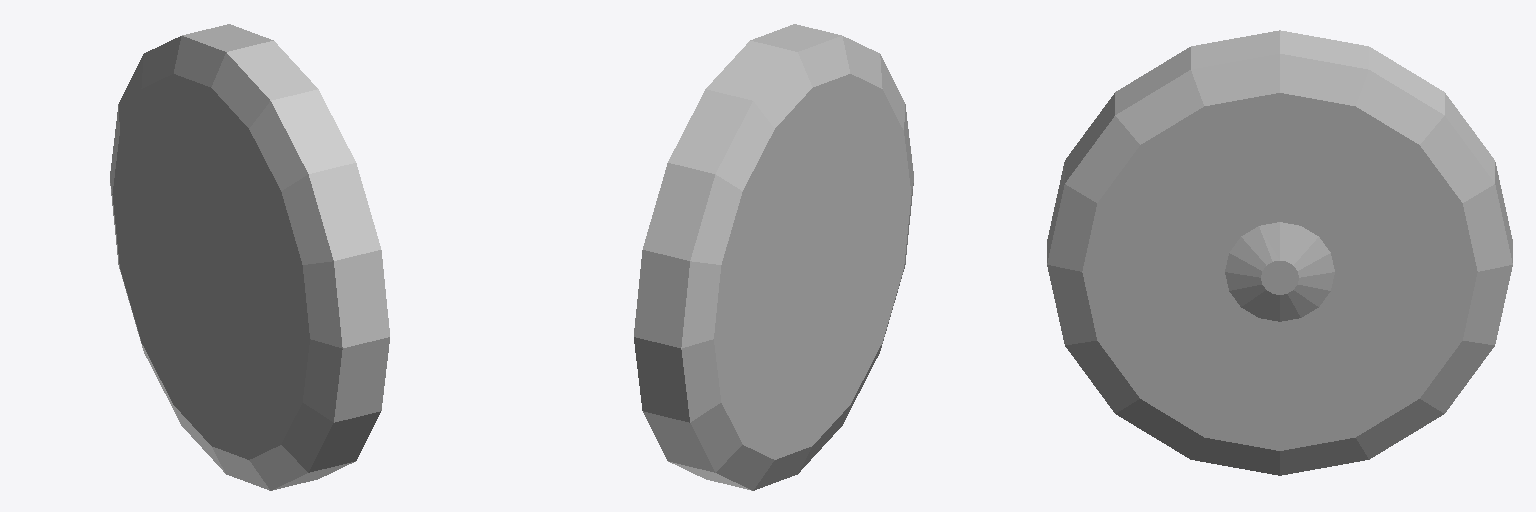
The model's file is train_engine_wheel.obj.
The picture shows the model from 3 angles: view 1: azimuth 30°, elevation 25°; view 2: azimuth 150°, elevation 25°; view 3: azimuth 270°, elevation 25°; orthographic projection.
Parts seen in each view (by area): view 1: Wheel.004; view 2: Wheel.004; view 3: Wheel.004.
Boxes of the visible parts, <box> form: Wheel.004: <box>110,24,389,490</box>; Wheel.004: <box>634,24,913,490</box>; Wheel.004: <box>1047,30,1512,475</box>.
Bounding box in the file's own units: 0.0765 × 0.3456 × 0.3456.